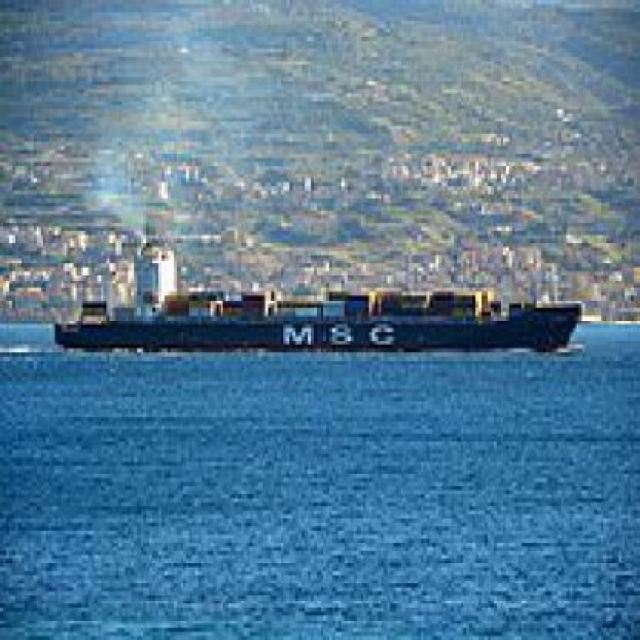container: (50, 269, 590, 366)
